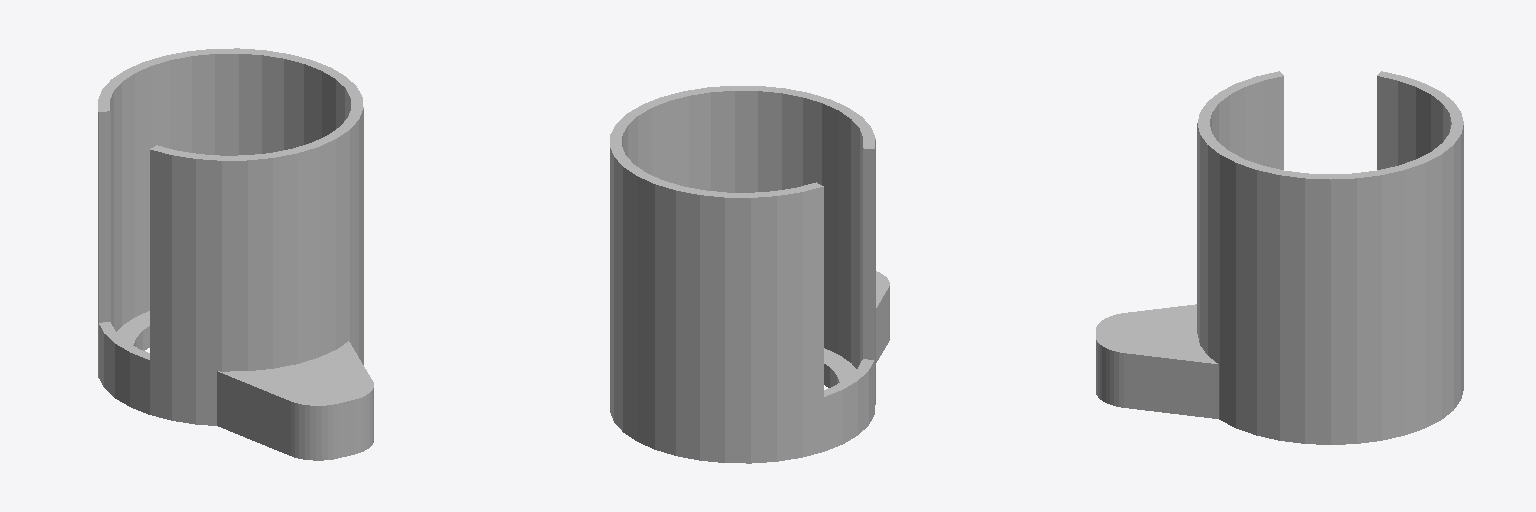
File: Halterung_XLR.obj
The picture shows the model from 3 angles: view 1: azimuth 30°, elevation 25°; view 2: azimuth 150°, elevation 25°; view 3: azimuth 270°, elevation 25°; orthographic projection.
Parts seen in each view (by area): view 1: Cylinder.000_Cylinder.001; view 2: Cylinder.000_Cylinder.001; view 3: Cylinder.000_Cylinder.001.
Boxes of the visible parts, x1,y1,x2,y2 form: Cylinder.000_Cylinder.001: [98, 48, 373, 460]; Cylinder.000_Cylinder.001: [610, 86, 889, 463]; Cylinder.000_Cylinder.001: [1096, 71, 1463, 444].
Size of the model in its own units: 0.0145 by 0.0159 by 0.02.